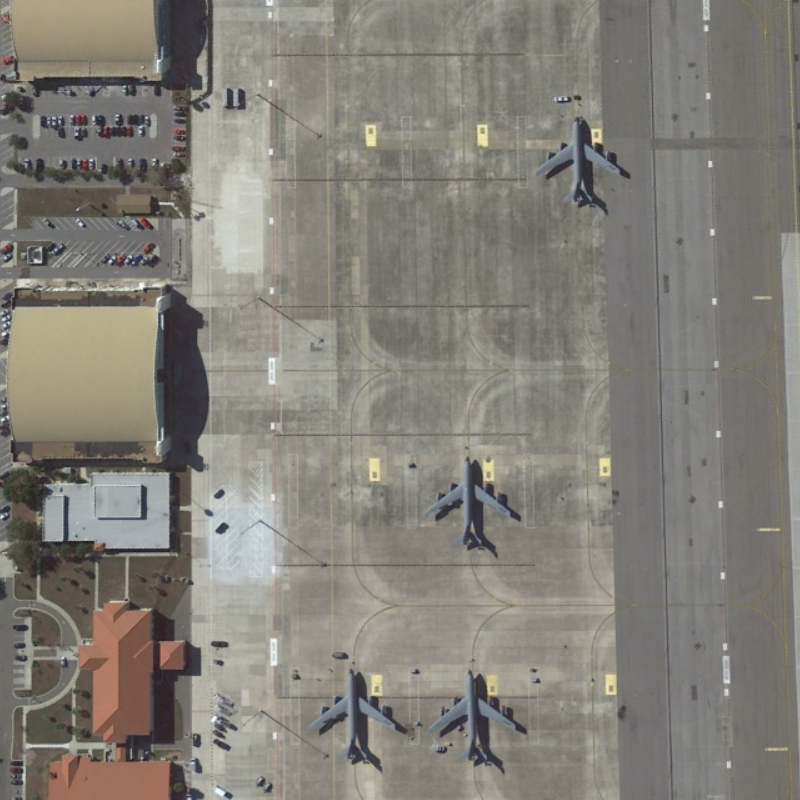A14: (305, 666, 399, 767), (426, 667, 520, 765), (420, 455, 516, 549), (533, 114, 624, 208)
